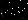person: (1, 5, 9, 20), (21, 8, 27, 19)
